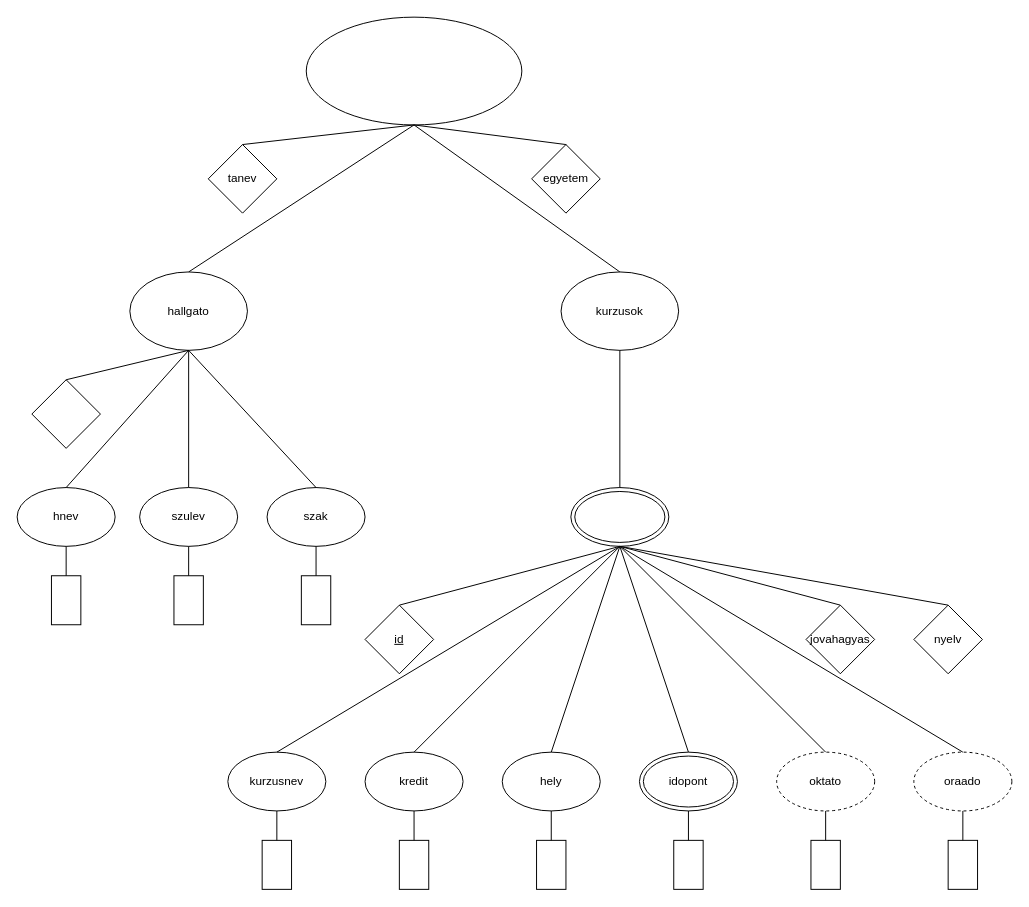
The diagram is 1029 pixels wide and 907 high, and some of its shapes have lost their labels. Here are the shapes that lost their labels. From the top down, the centre of each, then its label:
(413,70): HPQ9EO_kurzusfelvetel
(65,413): evf.
(619,516): kurzus
